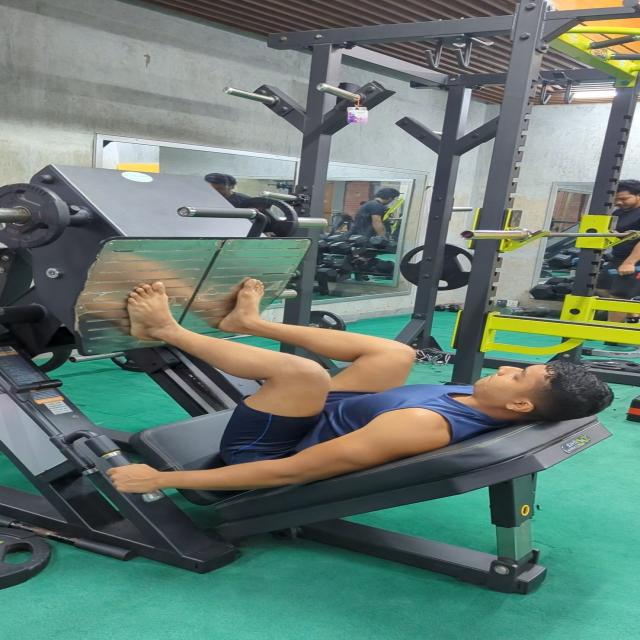Normal_LegPress: (77, 272, 616, 513)
